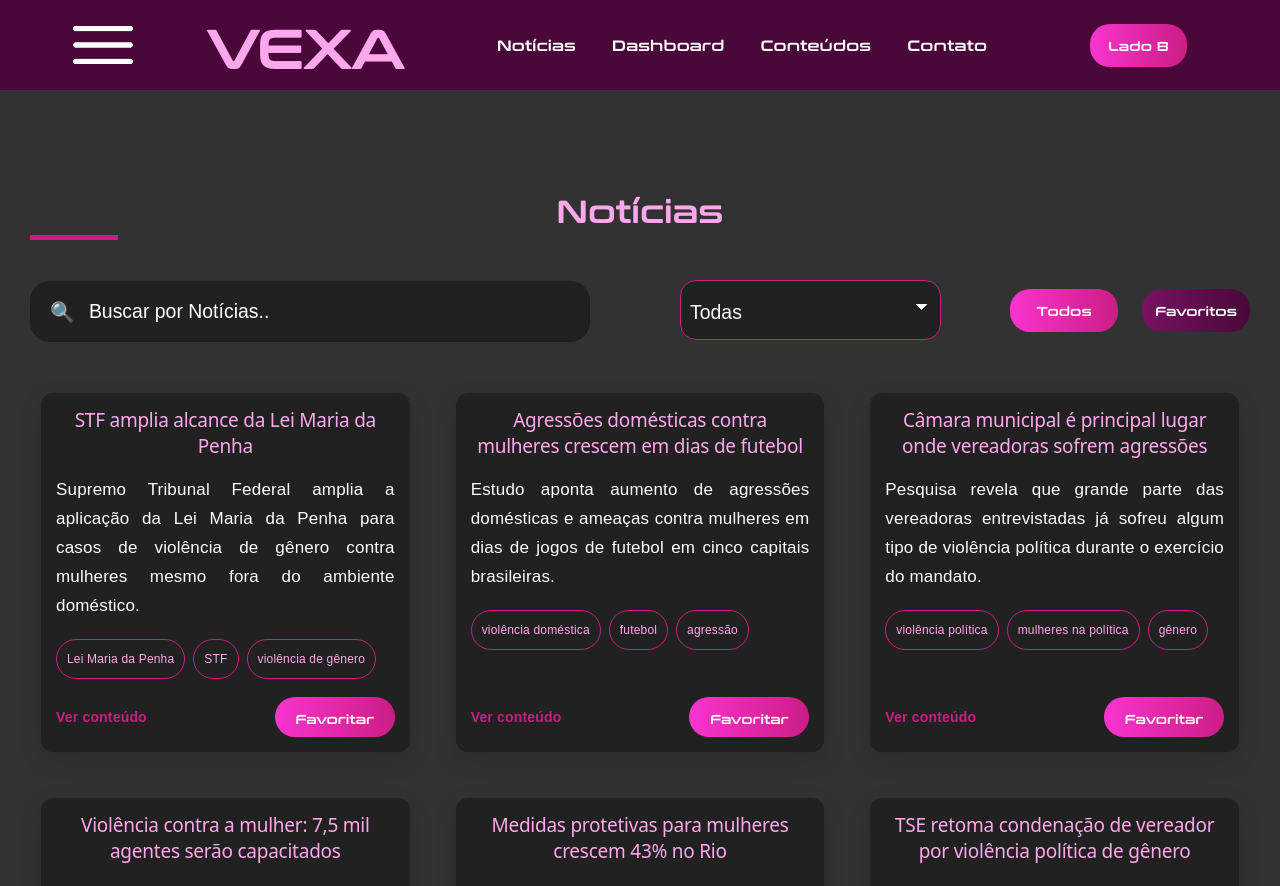
Test: Favoritos de notícias (banco) › sem login, favoritar leva ao login e não grava nada
Click the button "Favoritar" below "STF amplia alcance da Lei Maria da Penha". click: (335, 717)
box: [275,697,395,737]
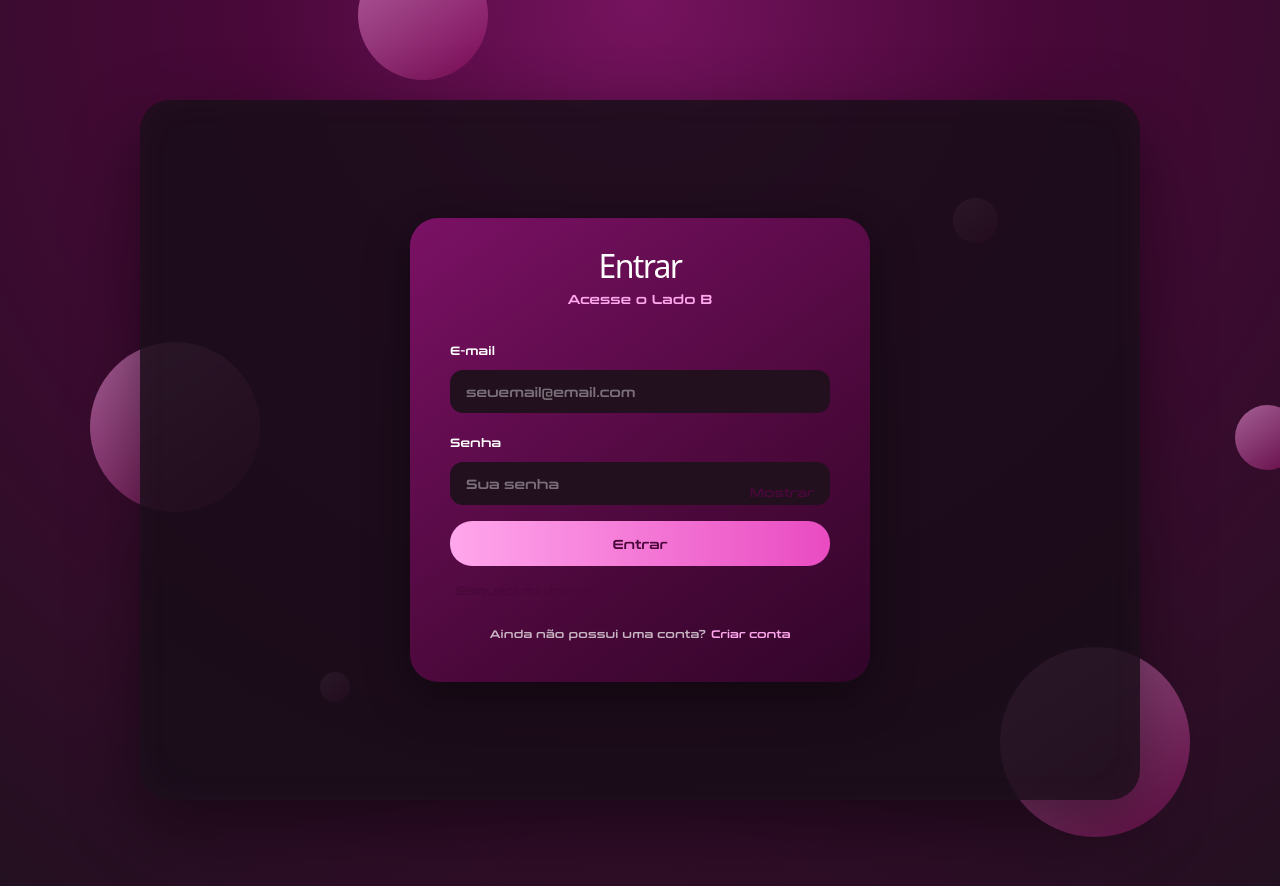
Result: the heading "Entrar" is shown at [599,244,681,287]
